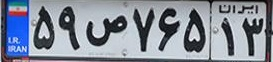character: (82, 5, 130, 52), (180, 1, 209, 57), (155, 1, 183, 57), (55, 2, 84, 55), (29, 3, 57, 54), (130, 3, 157, 55), (240, 15, 264, 59), (216, 17, 240, 58)
